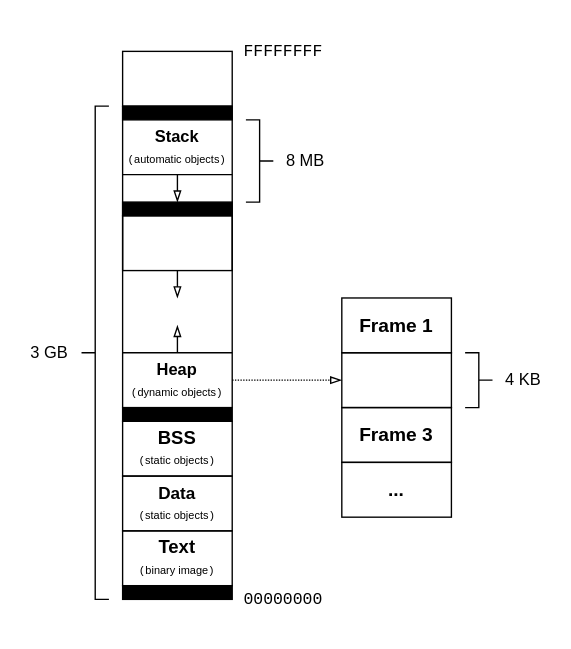
The diagram is 571 pixels wide and 649 high, and some of its shapes have lost their labels. Each missing label, with the centre of its shape:
( reserved segment ): (176,78)
Frame 2: (395,379)
Mappings ( IPC and .so ): (176,242)
